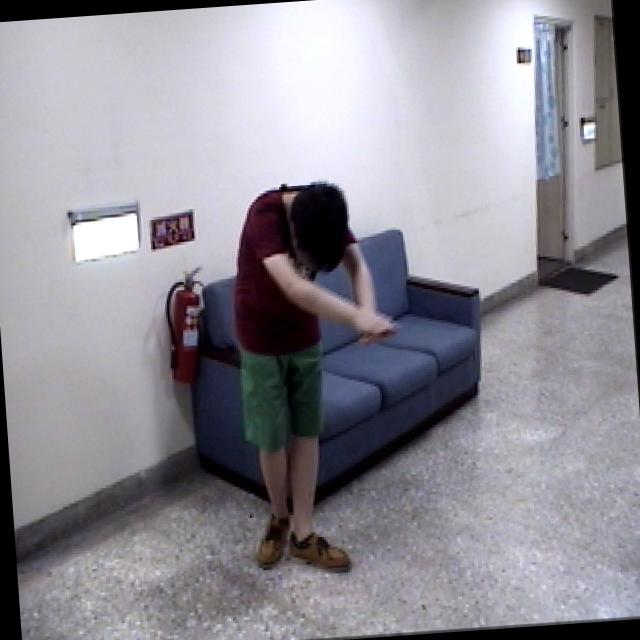bend: (223, 166, 416, 581)
